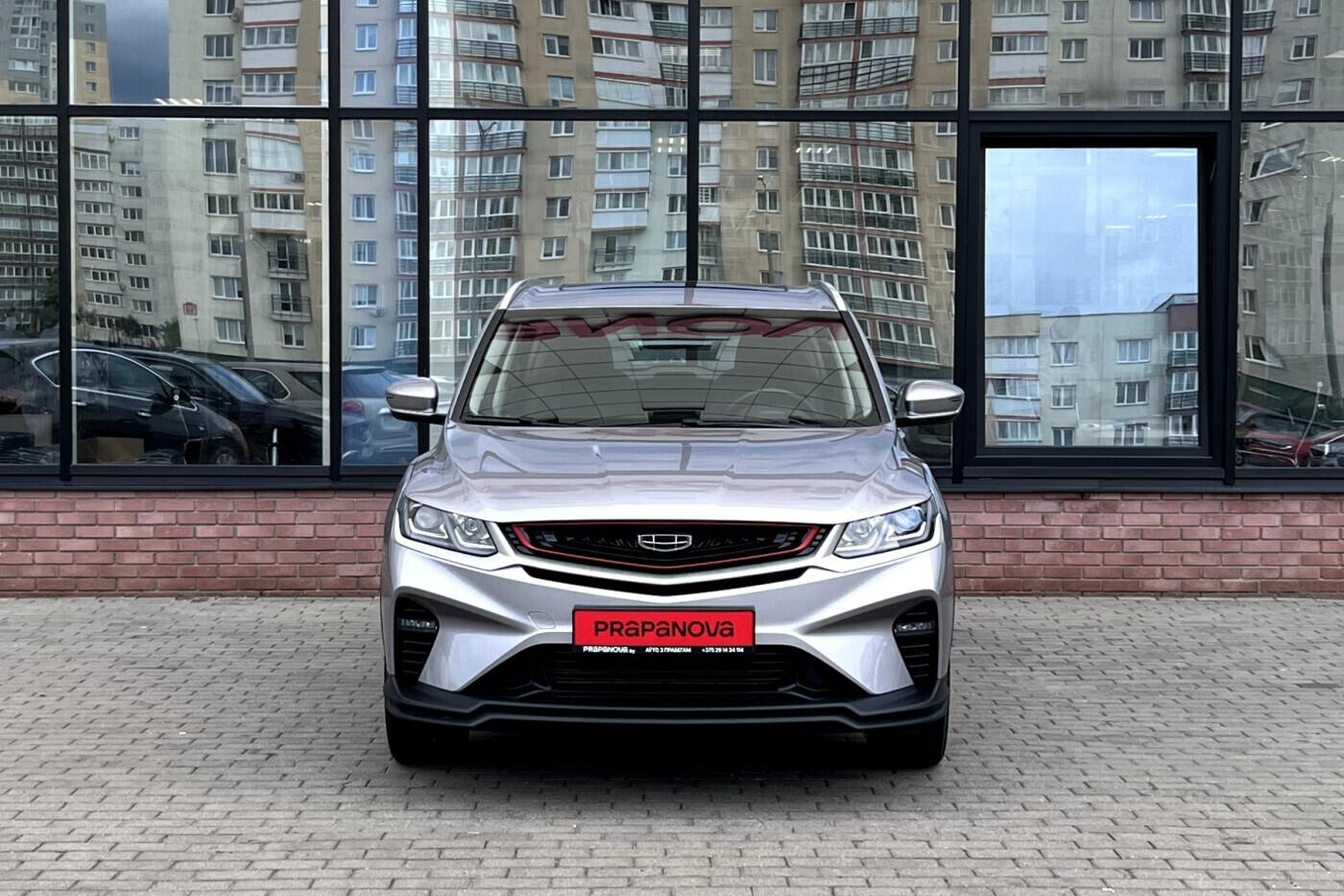Coolray_2019-2023: (370, 279, 962, 779)
